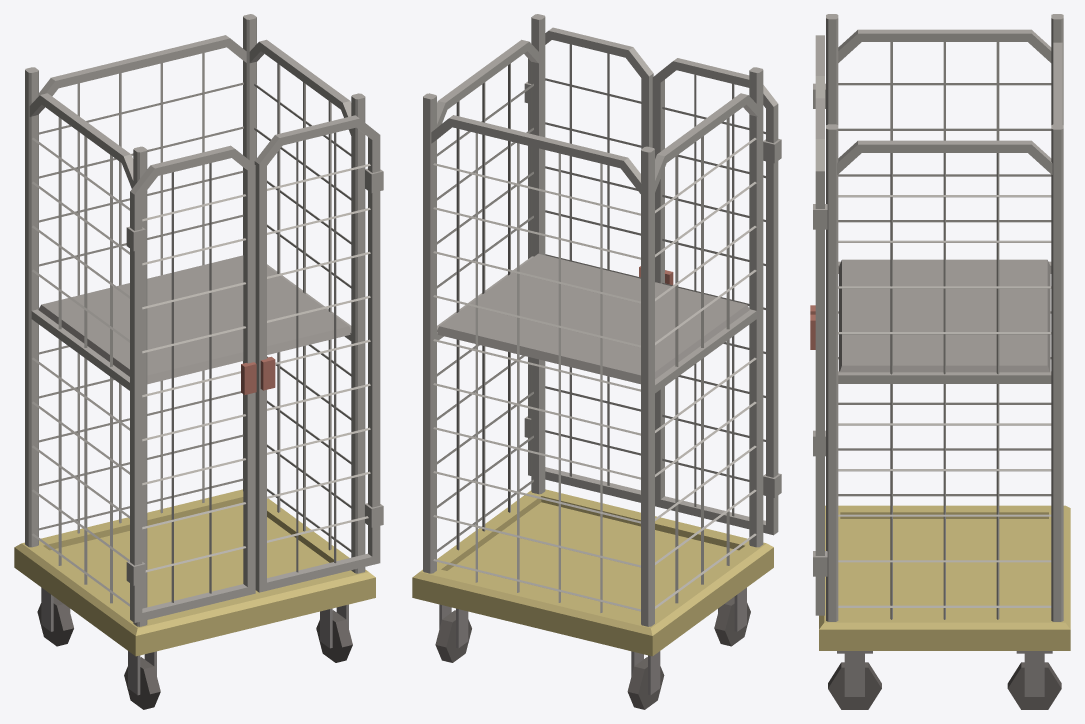
File: cage.glb
3 views of the same model, side by side, from view 1: azimuth 30°, elevation 25°; view 2: azimuth 150°, elevation 25°; view 3: azimuth 270°, elevation 25° (orthographic). The views are drawn at different scales.
Visible parts, largest first — view 1: cage; view 2: cage; view 3: cage.
Boxes of the visible parts, x1=… form: cage: x1=14, y1=14, x2=383, y2=709; cage: x1=412, y1=14, x2=781, y2=709; cage: x1=810, y1=14, x2=1070, y2=709.
Size of the model in its own units: 0.832 by 1.8 by 0.724.
